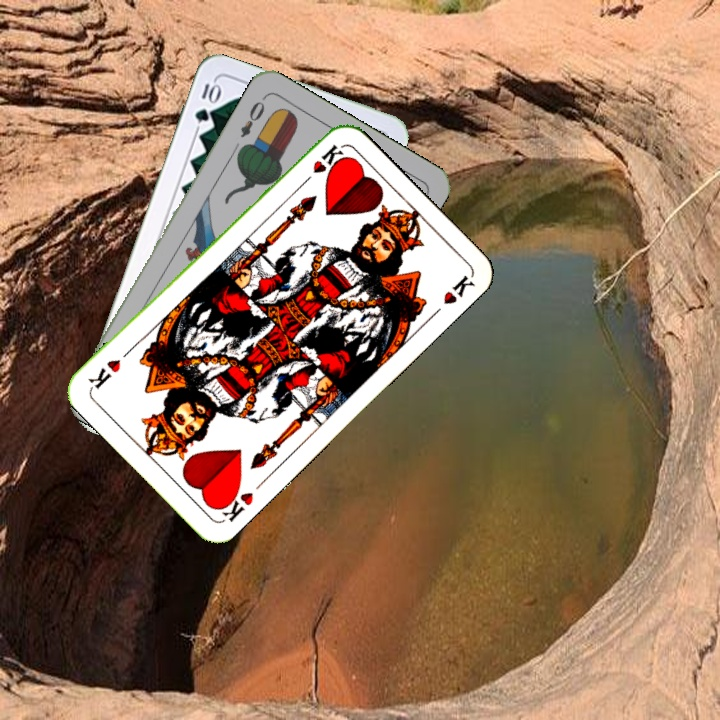EO: (236, 97, 268, 141)
G10: (190, 77, 222, 126)
HK: (297, 140, 347, 189), (212, 482, 256, 525)
